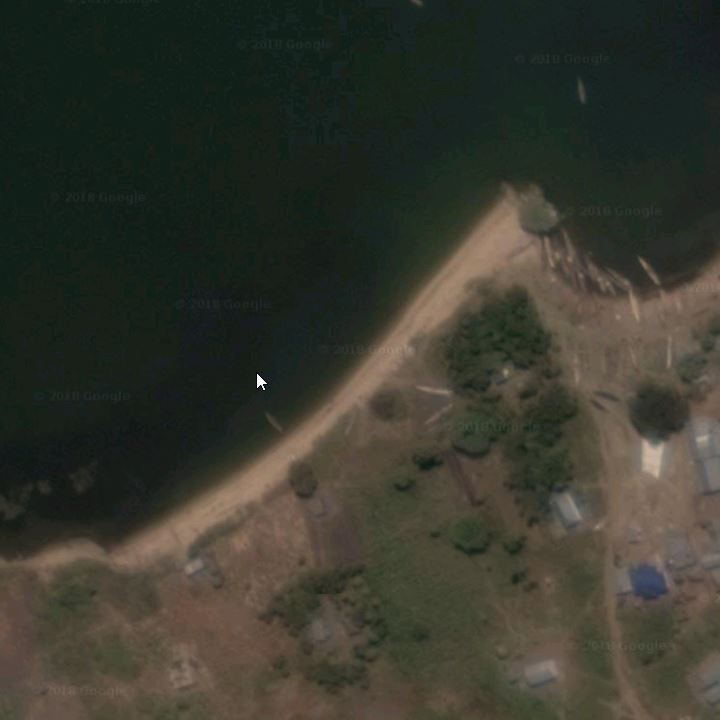boat: (630, 245, 666, 291), (406, 377, 461, 403), (604, 262, 643, 298), (422, 401, 461, 430), (339, 401, 365, 441), (259, 407, 289, 441), (621, 341, 643, 380), (587, 382, 621, 406), (662, 326, 677, 380), (572, 75, 592, 114), (552, 230, 568, 277), (626, 289, 644, 327), (561, 224, 579, 260), (583, 256, 602, 288), (571, 341, 582, 396), (543, 228, 555, 273), (591, 261, 606, 296), (580, 264, 593, 303), (608, 271, 631, 293), (603, 271, 617, 303), (587, 397, 614, 413), (569, 261, 581, 296)
